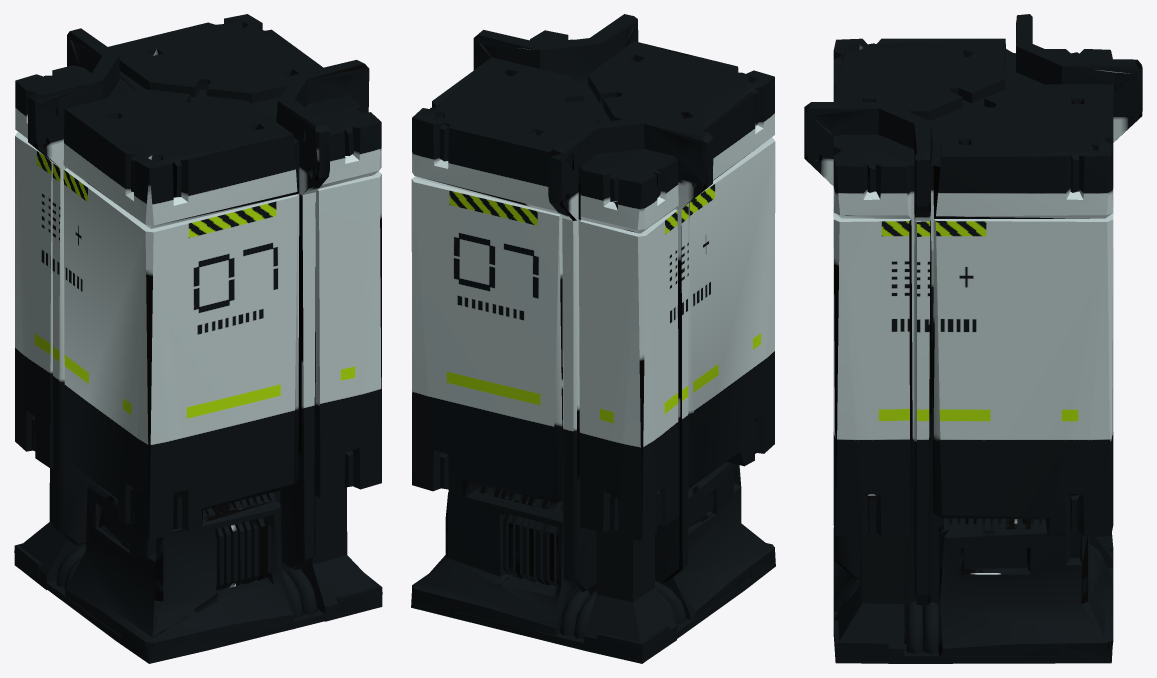
Rendered from castle.glb.
The picture shows the model from 3 angles, left to right: view 1: azimuth 30°, elevation 25°; view 2: azimuth 150°, elevation 25°; view 3: azimuth 270°, elevation 25°; orthographic projection. The views are drawn at different scales.
Visible parts, largest first — view 1: castle; view 2: castle; view 3: castle.
Boxes of the visible parts, <box> form: castle: <box>14,14,382,663</box>; castle: <box>411,14,775,663</box>; castle: <box>804,14,1142,663</box>.
Bounding box in the file's own units: 60.62 × 103 × 60.51.
Materials: 1 (1 with a texture image).
